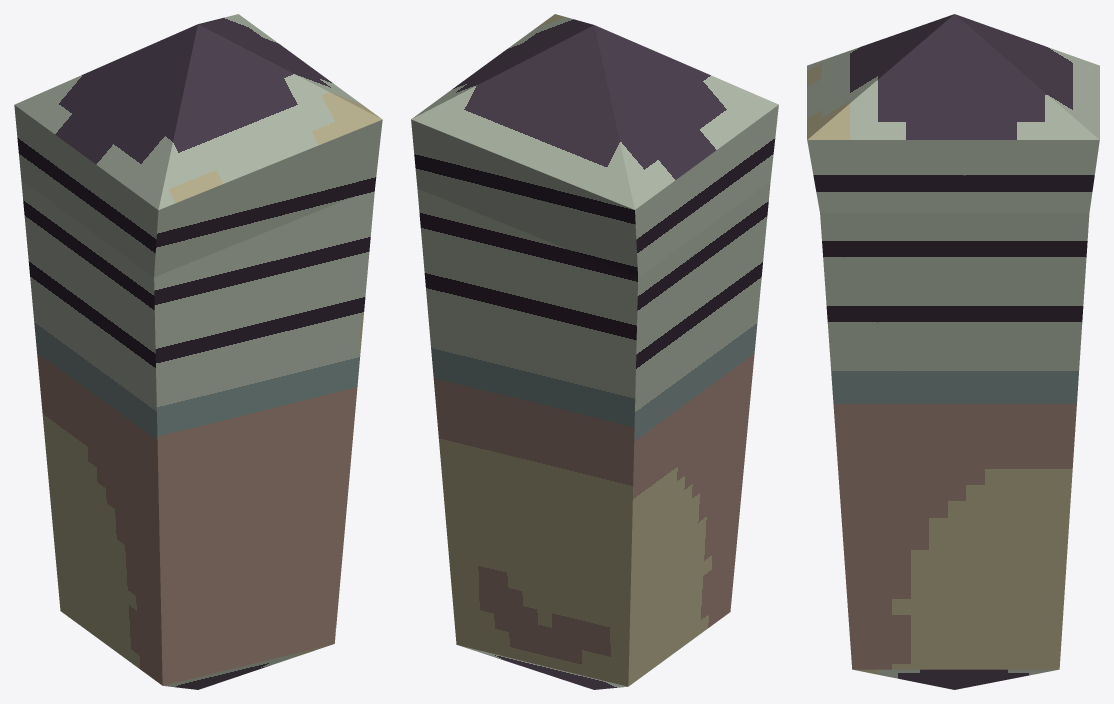
The model's file is character_thigh.glb.
The picture shows the model from 3 angles, left to right: view 1: azimuth 30°, elevation 25°; view 2: azimuth 150°, elevation 25°; view 3: azimuth 270°, elevation 25°; orthographic projection.
Parts seen in each view (by area): view 1: Cube.056; view 2: Cube.056; view 3: Cube.056.
Part boxes in pixels (x1,y1,x2,y2): Cube.056: [14, 14, 382, 689]; Cube.056: [411, 14, 778, 689]; Cube.056: [807, 14, 1099, 689].
Size of the model in its own units: 1.04 by 2.97 by 1.16.
Materials: 1 (1 with a texture image).
